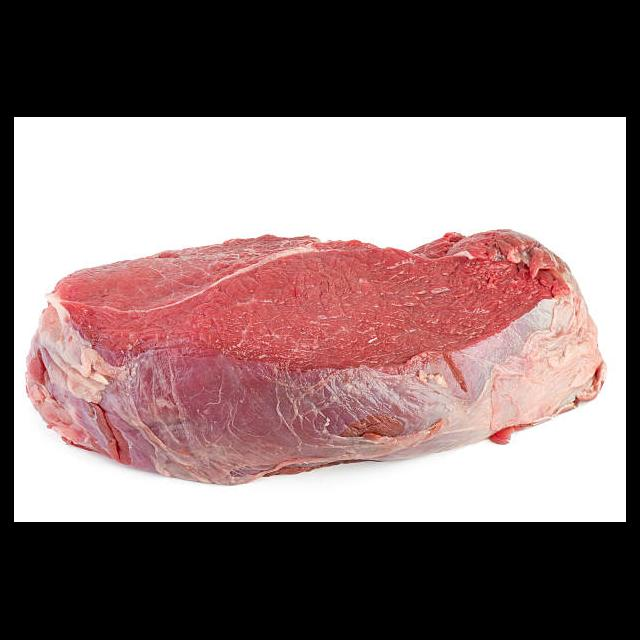beef: (23, 228, 608, 486)
